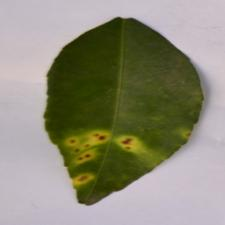Canker: (63, 105, 198, 194)
